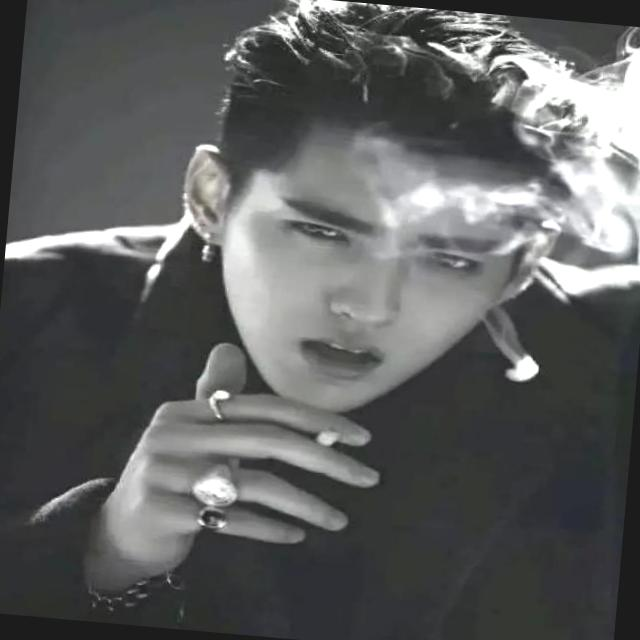cigarette: (315, 427, 342, 445)
